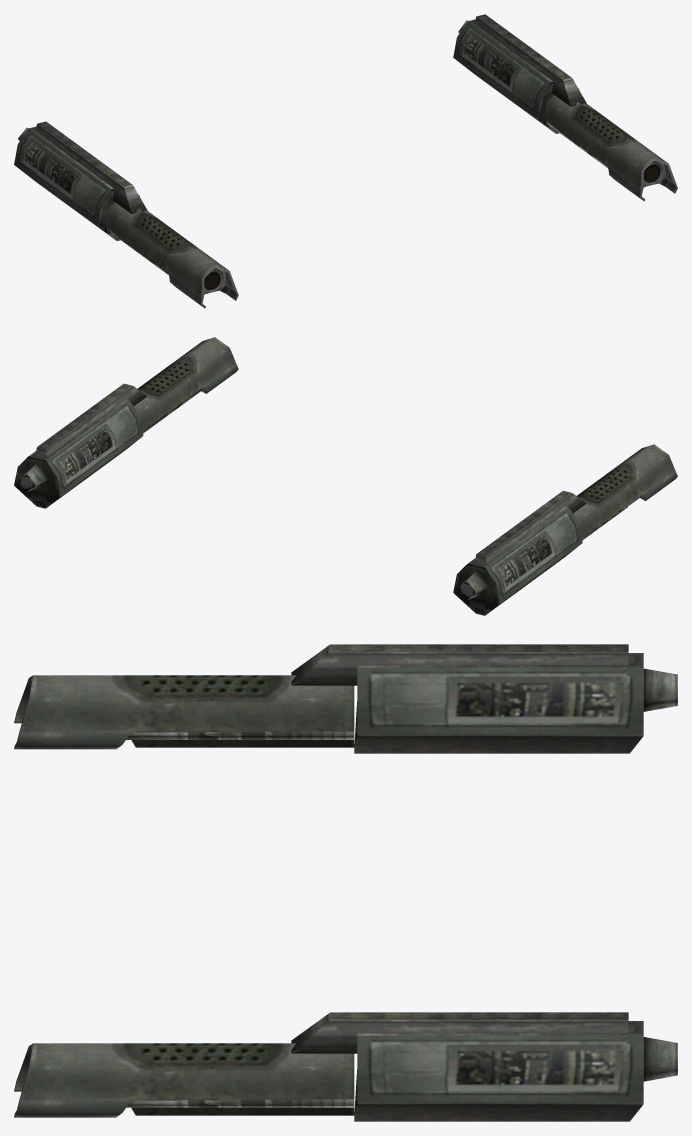
Rendered from black_sun_fighter_heavy_weapon1_s01_l1.fbx.
The picture shows the model from 3 angles, top to bottom: view 1: azimuth 30°, elevation 25°; view 2: azimuth 150°, elevation 25°; view 3: azimuth 270°, elevation 25°; orthographic projection. The views are drawn at different scales.
Parts seen in each view (by area): view 1: mesh_node; view 2: mesh_node; view 3: mesh_node.
Part boxes in pixels (<box>): mesh_node: <box>14,14,677,308</box>; mesh_node: <box>14,337,677,615</box>; mesh_node: <box>14,644,677,1121</box>.
Bounding box in the file's own units: 3.11 × 0.3616 × 2.14.
1 material, 1 textured.
